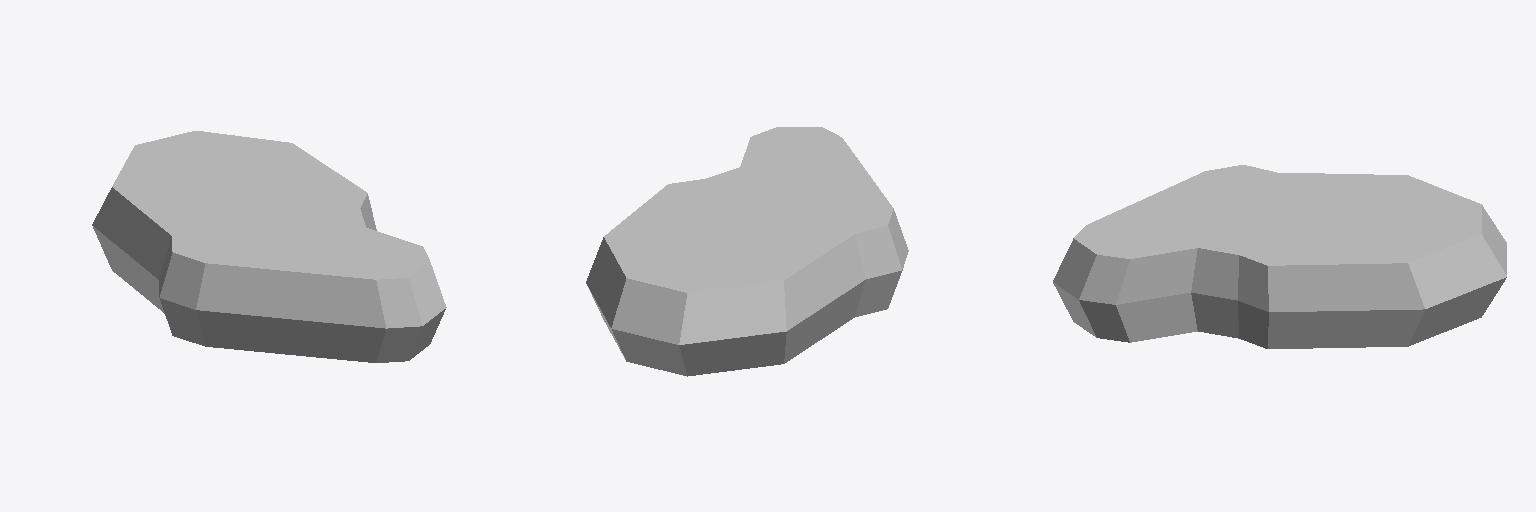
File: chicken_nugget.obj
3 views of the same model, side by side, from view 1: azimuth 30°, elevation 25°; view 2: azimuth 150°, elevation 25°; view 3: azimuth 270°, elevation 25° (orthographic).
Parts seen in each view (by area): view 1: Cube; view 2: Cube; view 3: Cube.
Part boxes in pixels (left/top/right/bottom): Cube: left=92, top=131, right=446, bottom=362; Cube: left=586, top=127, right=908, bottom=376; Cube: left=1053, top=165, right=1506, bottom=348.
Bounding box in the file's own units: 3.3 × 1.14 × 5.62.